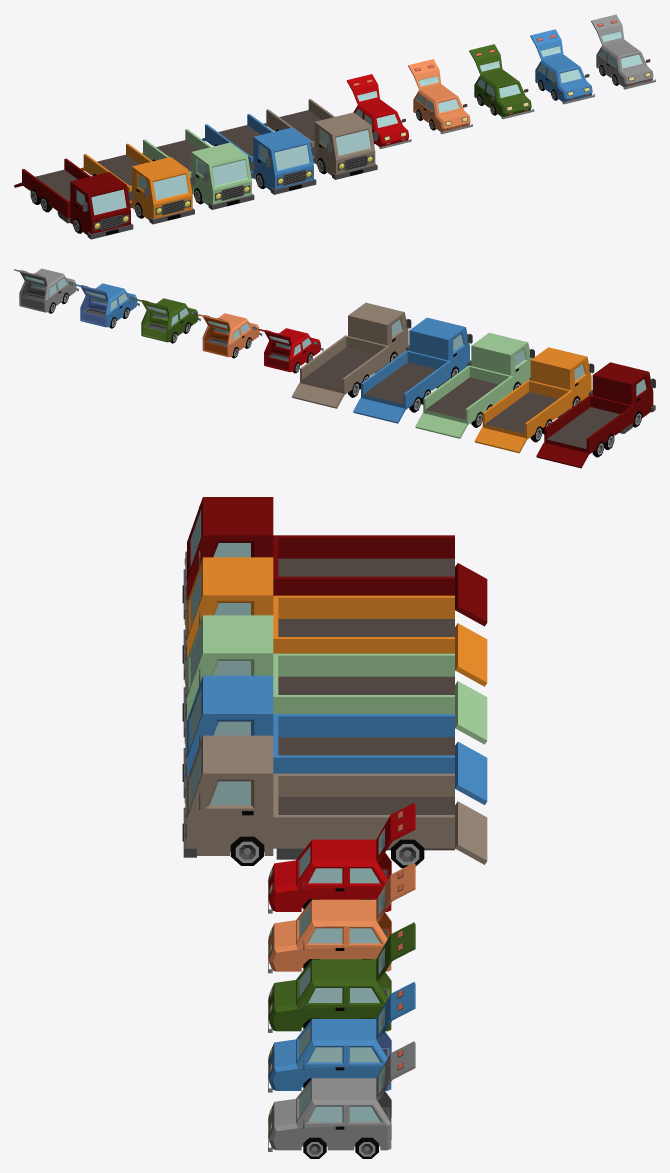
File: Vehicles_OpenTrunk.fbx
3 renders of one model, top to bottom at view 1: azimuth 30°, elevation 25°; view 2: azimuth 150°, elevation 25°; view 3: azimuth 270°, elevation 25°, orthographic. The views are drawn at different scales.
Parts seen in each view (by area): view 1: Truck05, Truck02, Truck04, Truck01, Truck03, Car04, Car03, Car02, Car05, Car01, Car01_Trunk, Car02_Trunk (+3 smaller); view 2: Truck05, Truck04, Truck02, Truck01, Truck03, Car03, Car04, Car05, Car02, Car01, Truck04_Trunk, Truck03_Trunk (+3 smaller); view 3: Truck01, Truck03, Truck05, Truck02, Truck04, Car05, Car02, Car01, Car03, Car04, Truck03_Trunk, Truck04_Trunk (+8 smaller).
Boxes of the visible parts, <box> form: Truck05: <box>22,158,133,239</box>; Truck02: <box>205,114,316,194</box>; Truck04: <box>83,143,195,224</box>; Truck01: <box>266,99,377,179</box>; Truck03: <box>143,129,254,209</box>; Car04: <box>535,54,594,104</box>; Car03: <box>474,69,534,119</box>; Car02: <box>413,84,472,133</box>; Car05: <box>596,39,655,89</box>; Car01: <box>353,99,411,148</box>; Car01_Trunk: <box>347,74,379,104</box>; Car02_Trunk: <box>408,59,441,89</box>; Truck05: <box>544,362,655,457</box>; Truck04: <box>482,347,594,442</box>; Truck02: <box>361,317,472,412</box>; Truck01: <box>300,302,411,397</box>; Truck03: <box>423,332,534,427</box>; Car03: <box>141,298,200,343</box>; Car04: <box>80,283,139,328</box>; Car05: <box>19,268,78,313</box>; Car02: <box>202,313,262,358</box>; Car01: <box>264,328,323,373</box>; Truck04_Trunk: <box>474,427,526,453</box>; Truck03_Trunk: <box>415,413,467,438</box>; Truck01: <box>182,735,454,868</box>; Truck03: <box>182,615,454,737</box>; Truck05: <box>182,497,454,619</box>; Truck02: <box>182,675,454,797</box>; Truck04: <box>182,557,454,679</box>; Car05: <box>268,1078,391,1158</box>; Car02: <box>268,899,391,973</box>; Car01: <box>268,839,391,913</box>; Car03: <box>268,959,391,1032</box>; Car04: <box>268,1019,391,1092</box>; Truck03_Trunk: <box>455,681,487,744</box>; Truck04_Trunk: <box>455,623,487,686</box>.
Bounding box in the file's own units: 3887 × 293 × 865.
